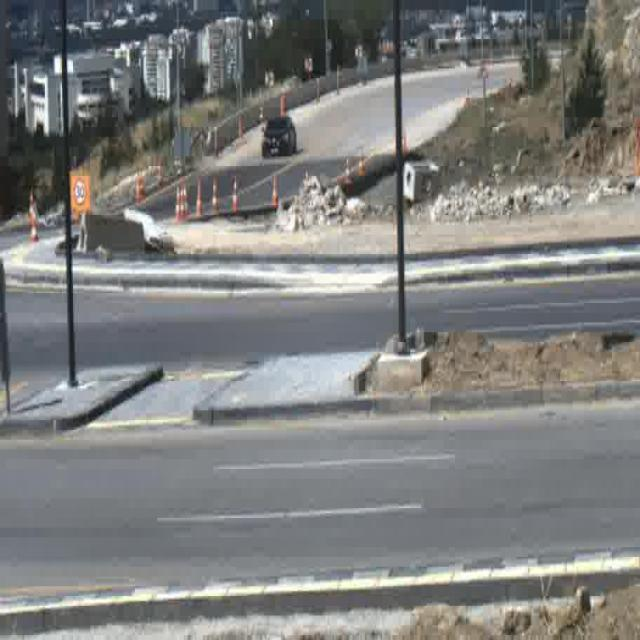Car: (260, 117, 298, 158)
